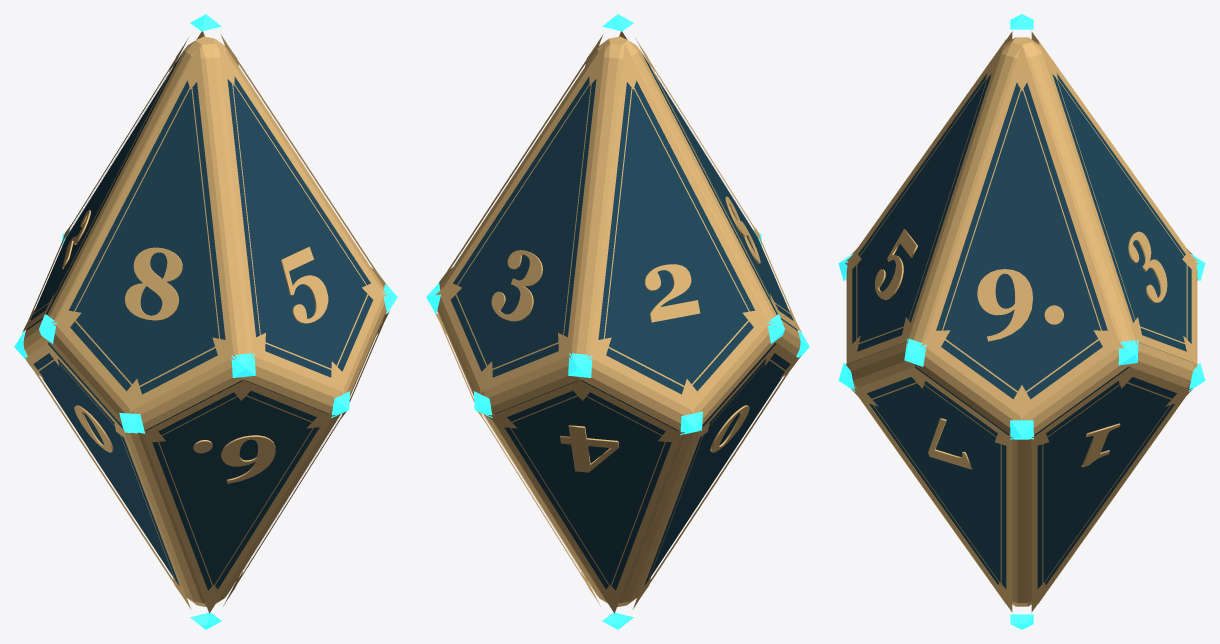
3 renders of one model, left to right at view 1: azimuth 30°, elevation 25°; view 2: azimuth 150°, elevation 25°; view 3: azimuth 270°, elevation 25°, orthographic.
Parts seen in each view (by area): view 1: D10_Body, D10_Inlay.007, D10_Inlay.009, D10_Inlay.008, D10_Jewels, D10_Number_8_Mesh, D10_Inlay, D10_Number_6._Mesh, D10_Number_5_Mesh, D10_Inlay.002, D10_Inlay.004, D10_Inlay.006 (+1 smaller); view 2: D10_Body, D10_Inlay.002, D10_Inlay.003, D10_Inlay.005, D10_Jewels, D10_Inlay, D10_Number_2_Mesh, D10_Number_3_Mesh, D10_Inlay.007, D10_Number_4_Mesh, D10_Inlay.004, D10_Inlay.001 (+1 smaller); view 3: D10_Body, D10_Inlay.004, D10_Inlay.006, D10_Inlay.001, D10_Inlay.009, D10_Inlay.003, D10_Jewels, D10_Number_9._Mesh, D10_Number_3_Mesh, D10_Number_5_Mesh, D10_Number_7_Mesh, D10_Number_1_Mesh.
Boxes of the visible parts, x1,y1,x2,y2 form: D10_Body: (23,36,386,607); D10_Inlay.007: (51,44,236,413); D10_Inlay.009: (218,42,387,393); D10_Inlay.008: (138,379,336,613); D10_Jewels: (14,14,397,629); D10_Number_8_Mesh: (125,247,182,320); D10_Inlay: (24,342,190,608); D10_Number_6._Mesh: (193,435,275,483); D10_Number_5_Mesh: (281,246,328,323); D10_Inlay.002: (22,38,188,332); D10_Inlay.004: (221,35,387,287); D10_Inlay.006: (223,311,389,605); D10_Body: (437,36,800,607); D10_Inlay.002: (587,44,772,413); D10_Inlay.003: (436,42,605,393); D10_Inlay.005: (487,379,684,613); D10_Jewels: (426,14,809,629); D10_Inlay: (633,342,801,608); D10_Number_2_Mesh: (644,264,700,322); D10_Number_3_Mesh: (491,250,542,321); D10_Inlay.007: (635,38,801,332); D10_Number_4_Mesh: (560,425,618,472); D10_Inlay.004: (438,35,602,286); D10_Inlay.001: (435,313,600,605); D10_Body: (846,37,1197,606); D10_Inlay.004: (921,45,1123,419); D10_Inlay.006: (851,366,1013,612); D10_Inlay.001: (1030,366,1192,612); D10_Inlay.009: (845,40,1005,365); D10_Inlay.003: (1038,40,1198,365); D10_Jewels: (838,14,1205,629); D10_Number_9._Mesh: (977,269,1063,341); D10_Number_3_Mesh: (1128,231,1167,302); D10_Number_5_Mesh: (875,229,917,299); D10_Number_7_Mesh: (928,418,972,469); D10_Number_1_Mesh: (1081,423,1120,467).
Size of what is drawn, in the model's own units: 0.8093 by 1.43 by 0.7697.
